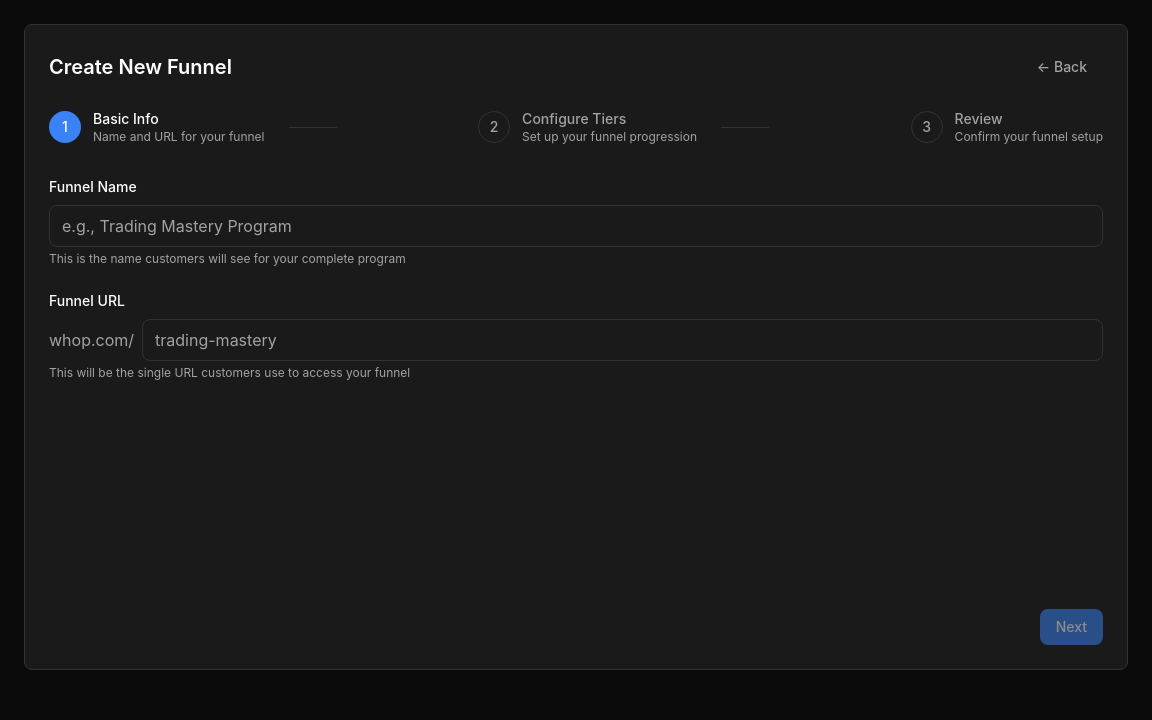
Test: FunnelWizard Component › navigates to step 2 when next is clicked
# Fill required fields
In the field with placeholder "e.g., Trading Mastery Program": (576, 226) [49, 205, 1103, 247], type "Test Funnel"
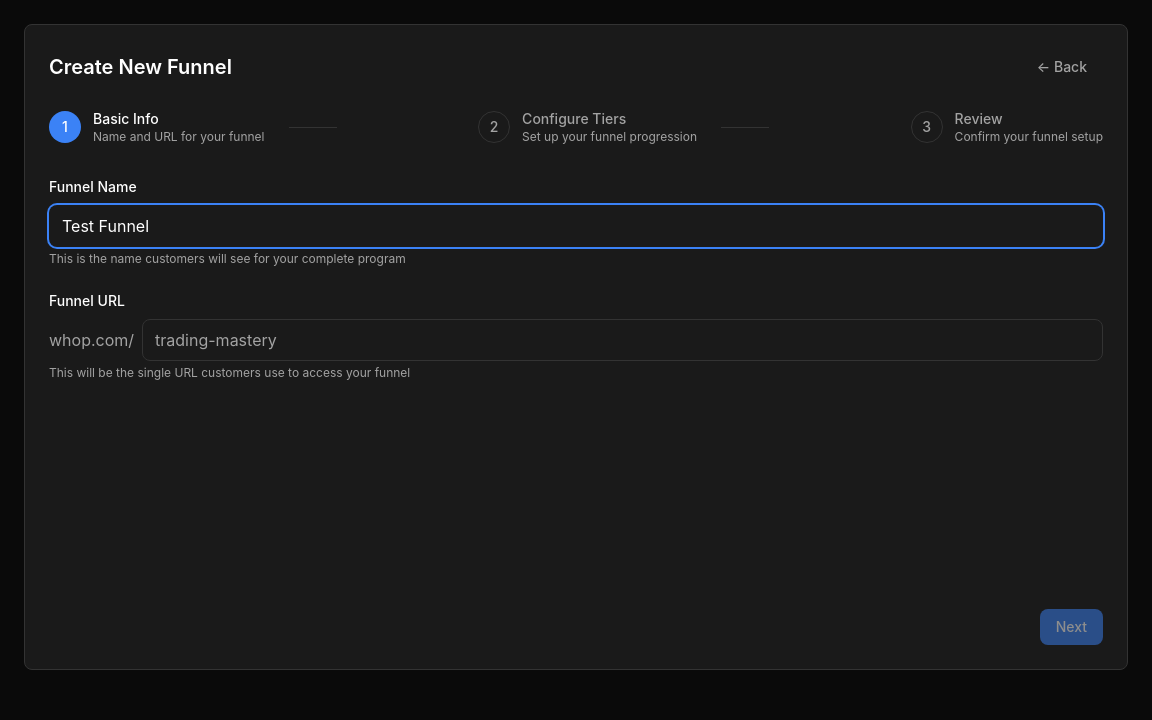
In the field with placeholder "trading-mastery": (623, 340) [142, 319, 1103, 361], type "test-funnel"
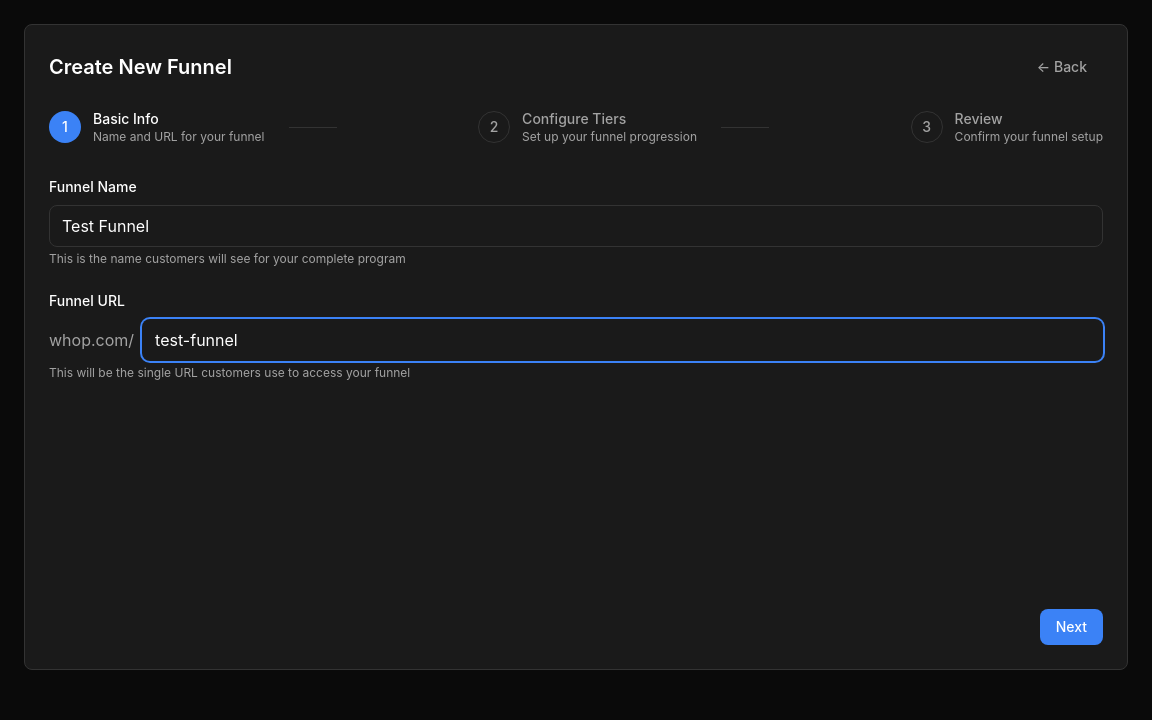
# Click next
Click the button "Next": (1071, 627) [1040, 609, 1103, 645]
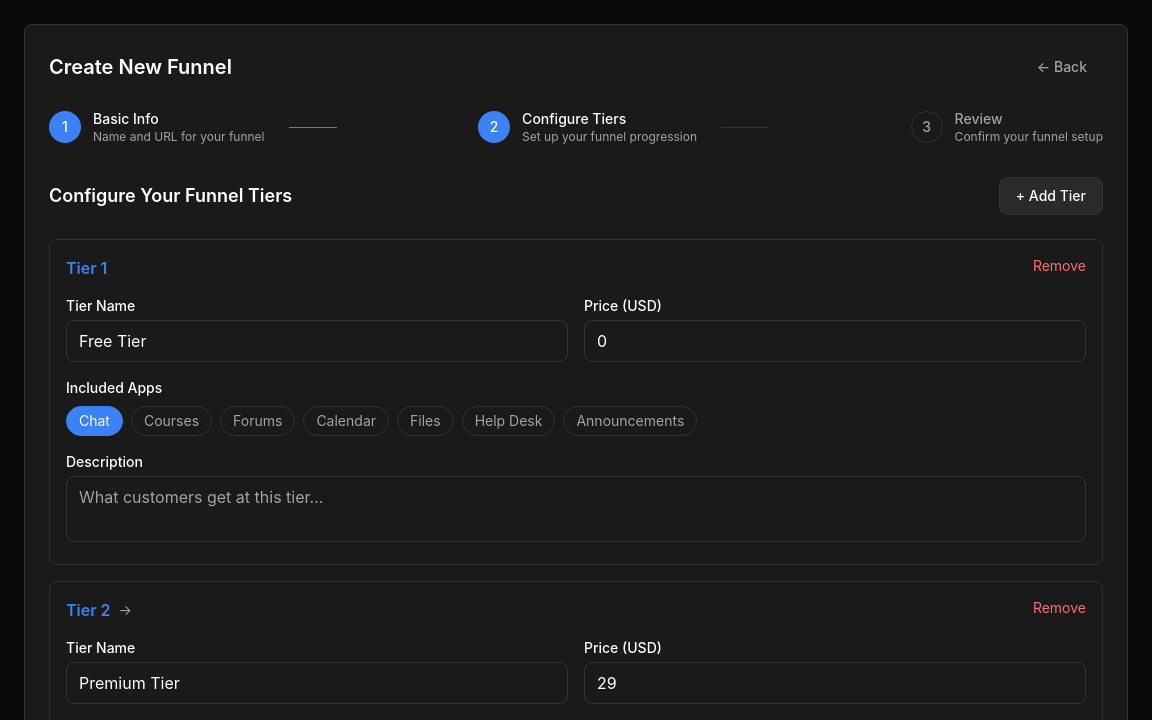
Check: the heading "Configure Your Funnel Tiers" is shown, box [49, 182, 292, 210]
